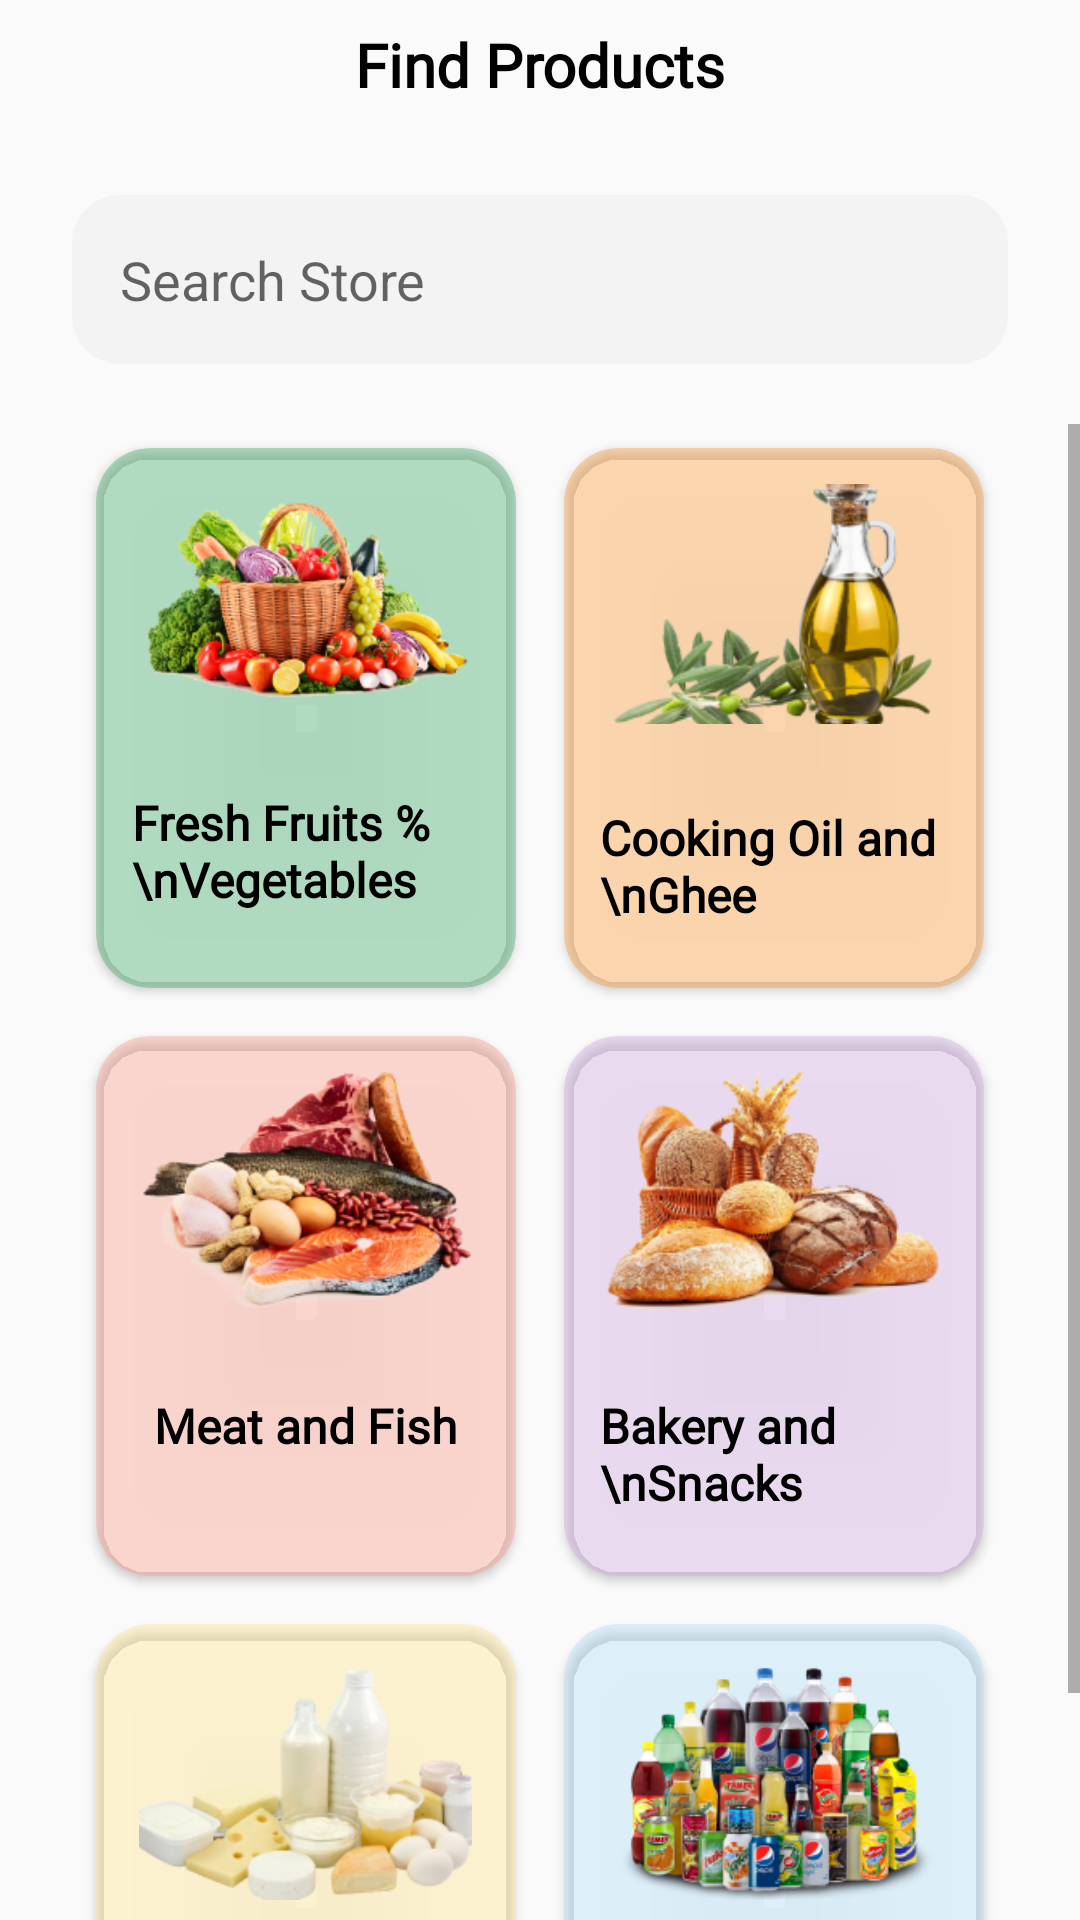

Locate icon controls on the screen. Image size 1080px x 1920px, boxes as (x1, y1, x2, y2).
dairy: (139, 1670, 472, 1900)
